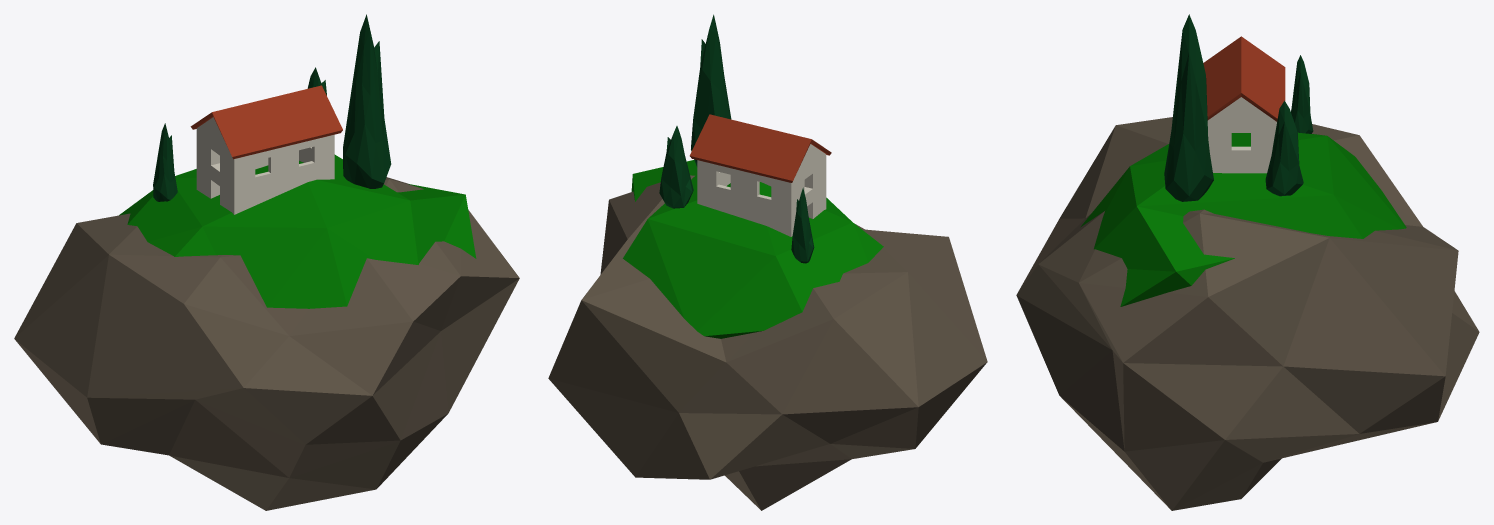
Rendered from floating-island-house-2.dae.
3 views of the same model, side by side, from view 1: azimuth 30°, elevation 25°; view 2: azimuth 150°, elevation 25°; view 3: azimuth 270°, elevation 25° (orthographic). The views are drawn at different scales.
Parts seen in each view (by area): view 1: island, Icosphere_002, house, Cube_001, Icosphere_001, Icosphere_004; view 2: island, Icosphere_002, house, Cube_001, Icosphere_001, Icosphere_003, Icosphere_004; view 3: island, Icosphere_002, Icosphere_001, Cube_001, house, Icosphere_003, Icosphere_004.
Part boxes in pixels (x1,y1,x2,y2): island: [14, 177, 519, 510]; Icosphere_002: [119, 154, 476, 308]; house: [196, 117, 334, 214]; Cube_001: [190, 85, 342, 159]; Icosphere_001: [343, 14, 391, 188]; Icosphere_004: [153, 123, 177, 201]; island: [548, 175, 987, 510]; Icosphere_002: [623, 160, 883, 338]; house: [697, 144, 826, 236]; Cube_001: [689, 114, 831, 182]; Icosphere_001: [691, 14, 731, 166]; Icosphere_003: [659, 126, 693, 208]; Icosphere_004: [791, 187, 814, 263]; island: [1016, 117, 1479, 510]; Icosphere_002: [1080, 132, 1406, 306]; Icosphere_001: [1164, 14, 1213, 201]; Cube_001: [1203, 36, 1285, 121]; house: [1207, 97, 1276, 173]; Icosphere_003: [1265, 100, 1303, 196]; Icosphere_004: [1291, 55, 1313, 133].
Bounding box in the file's own units: 0.91 × 0.8461 × 1.06.
